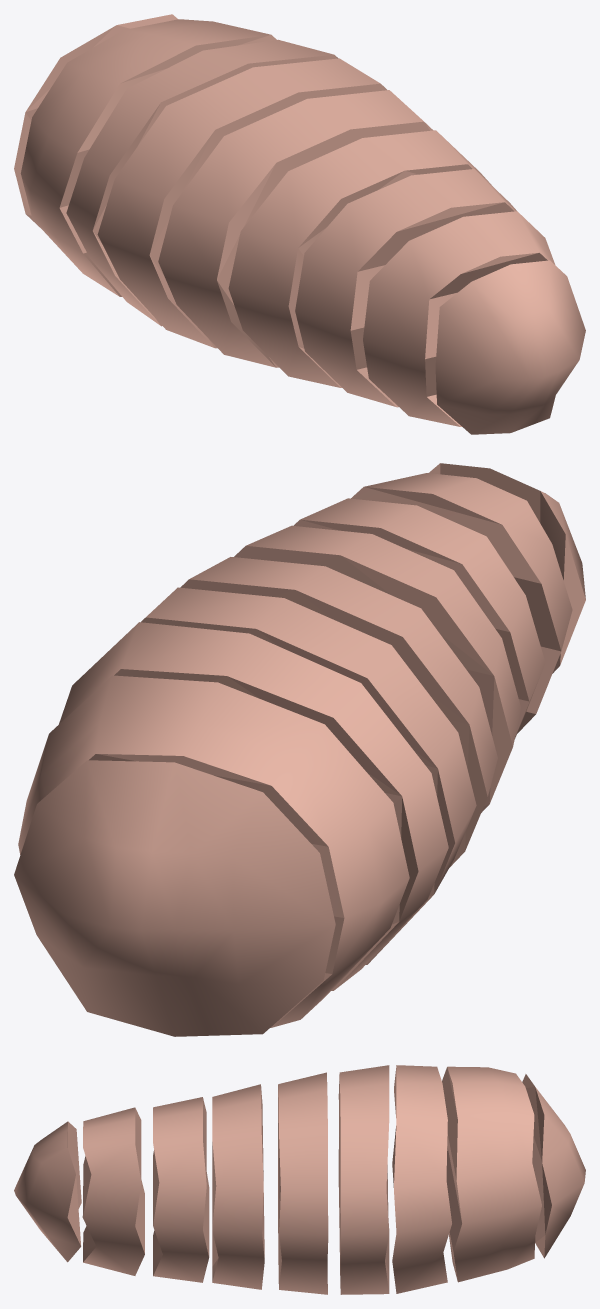
The model's file is chicken-breast-cut.FBX.
The picture shows the model from 3 angles, top to bottom: view 1: azimuth 30°, elevation 25°; view 2: azimuth 150°, elevation 25°; view 3: azimuth 270°, elevation 25°; orthographic projection. The views are drawn at different scales.
Visible parts, largest first — view 1: Chicken Breast Chunks; view 2: Chicken Breast Chunks; view 3: Chicken Breast Chunks.
Boxes of the visible parts, bbox=[...] form: Chicken Breast Chunks: bbox=[14, 14, 585, 434]; Chicken Breast Chunks: bbox=[14, 463, 585, 1036]; Chicken Breast Chunks: bbox=[14, 1065, 585, 1294].
Bounding box in the file's own units: 60.25 × 46.32 × 127.
